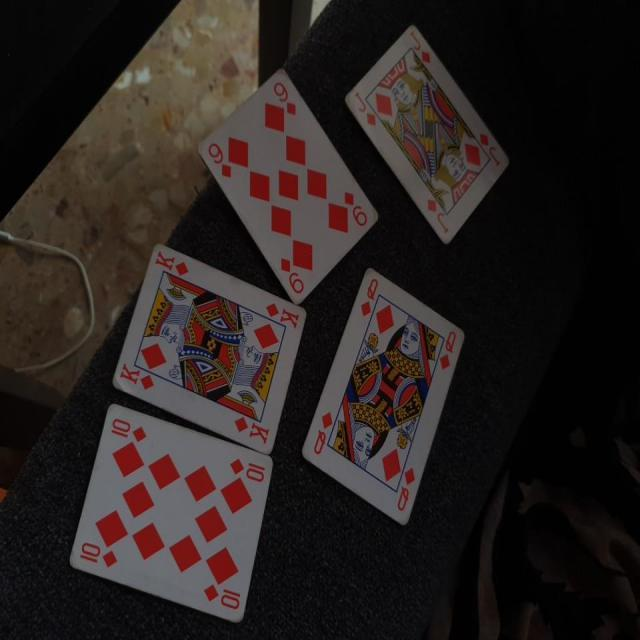10 of diamonds: (64, 402, 277, 626)
9 of diamonds: (193, 65, 380, 305)
jack of diamonds: (342, 25, 510, 244)
king of diamonds: (111, 244, 307, 458)
queen of diamonds: (300, 266, 466, 528)
